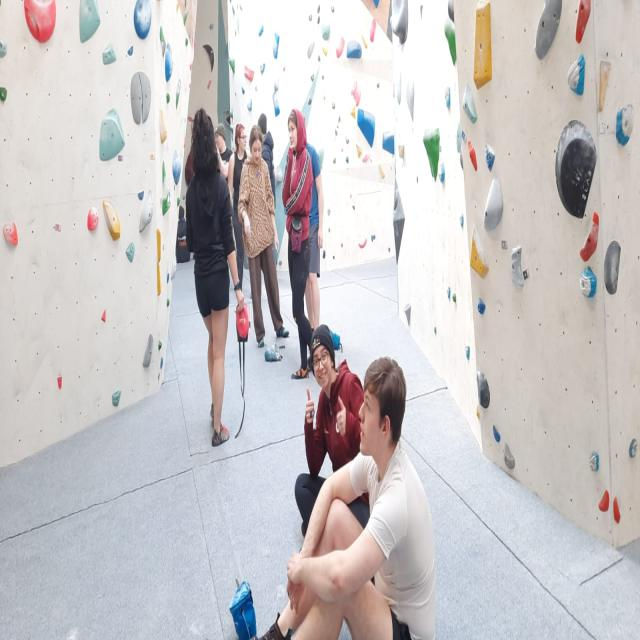Crimp: (580, 212, 601, 267), (574, 0, 596, 47), (596, 484, 611, 515), (474, 292, 489, 317), (612, 496, 622, 530), (124, 239, 136, 265), (491, 426, 502, 443), (56, 373, 64, 393), (127, 41, 135, 61), (137, 185, 145, 203), (101, 306, 107, 328)
Jug: (613, 100, 637, 157), (565, 52, 587, 99), (576, 262, 598, 308), (507, 238, 525, 294)
Pinch: (597, 51, 612, 115), (142, 328, 155, 374), (154, 226, 164, 264), (156, 263, 162, 299)
Sloper: (553, 121, 599, 221), (531, 0, 563, 65), (473, 0, 494, 89), (23, 0, 59, 46), (466, 220, 491, 284), (97, 108, 125, 165), (601, 231, 622, 299), (422, 125, 445, 185), (129, 70, 151, 129), (76, 0, 101, 49), (100, 194, 122, 247), (387, 0, 411, 47), (461, 79, 480, 128), (356, 101, 375, 150), (132, 0, 154, 42), (442, 17, 460, 67), (477, 367, 491, 413), (344, 37, 365, 63), (382, 127, 398, 157), (172, 144, 182, 187), (164, 42, 173, 85), (271, 91, 281, 118), (393, 184, 401, 213), (272, 30, 279, 62)
